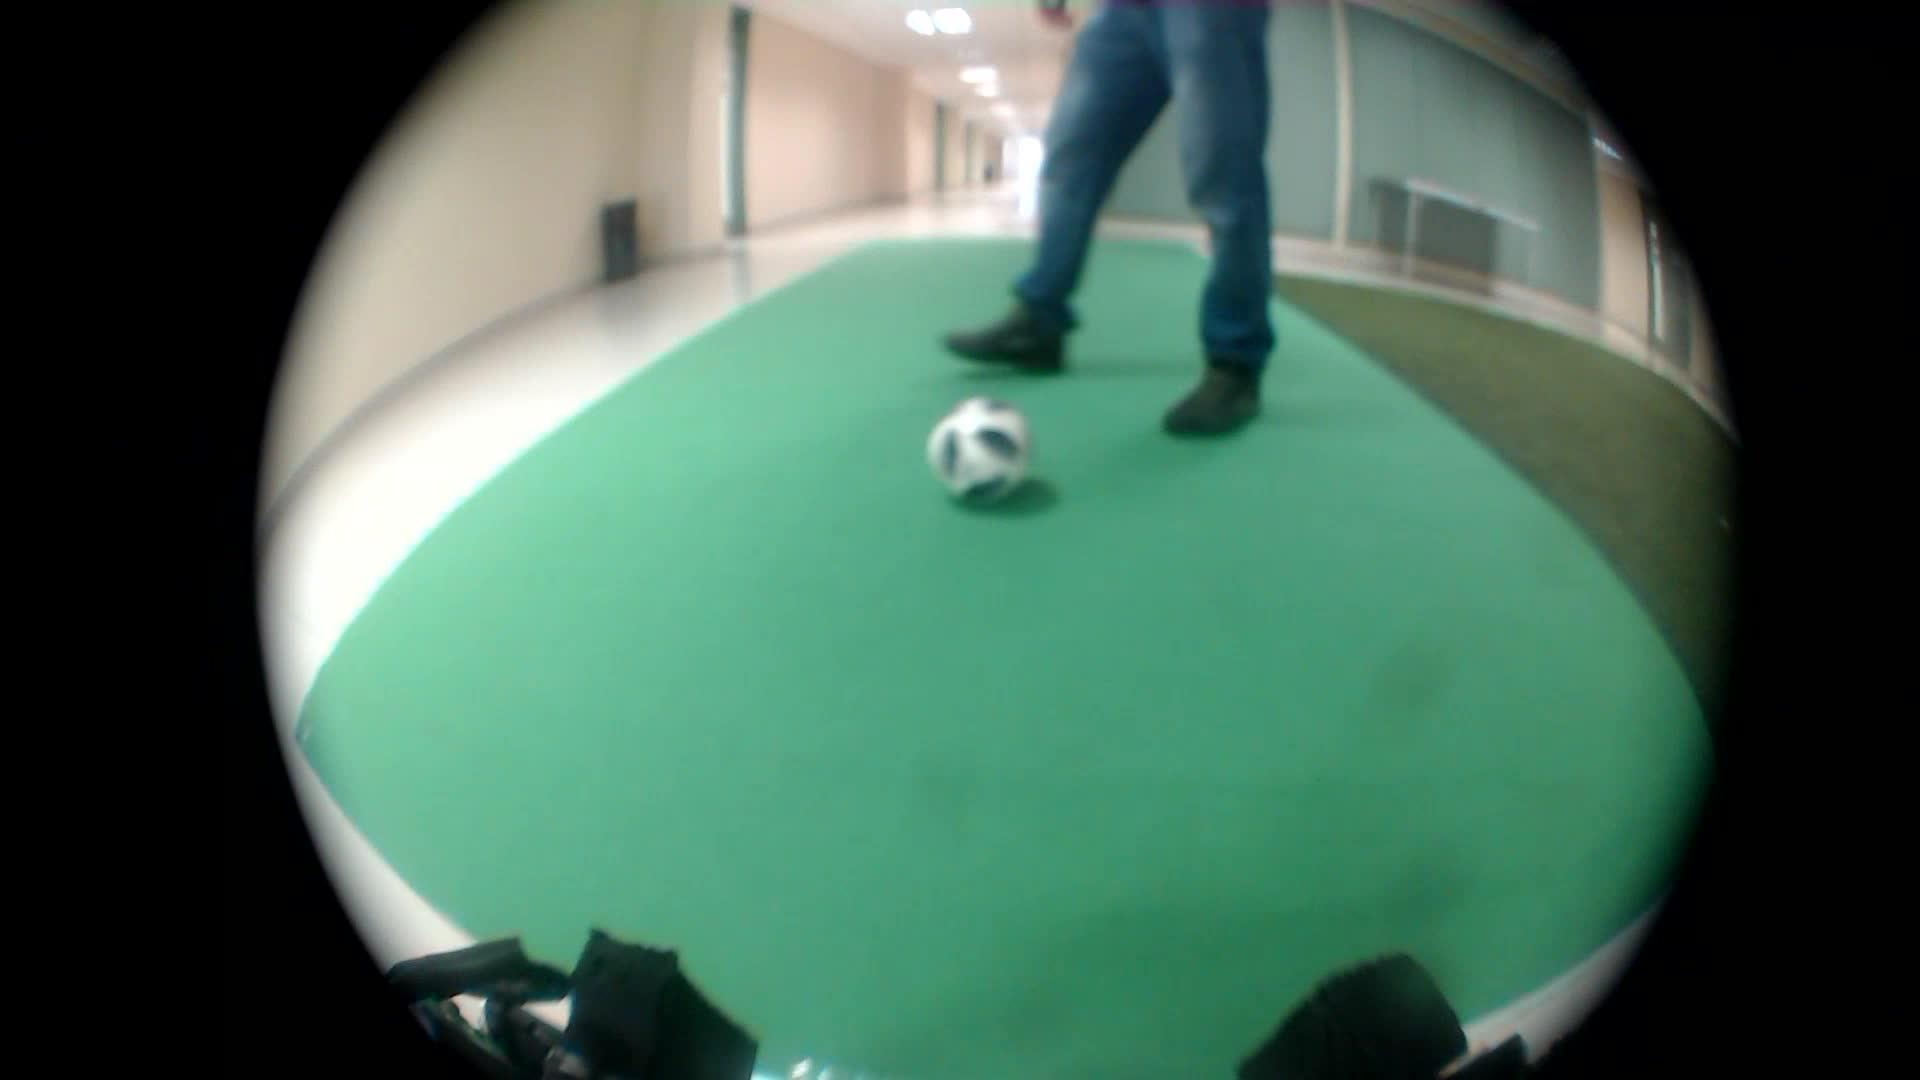ball: (911, 375, 1056, 525)
